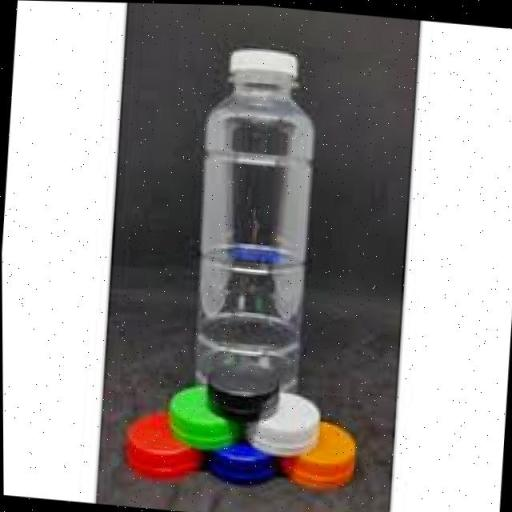plastic: (192, 35, 322, 368)
